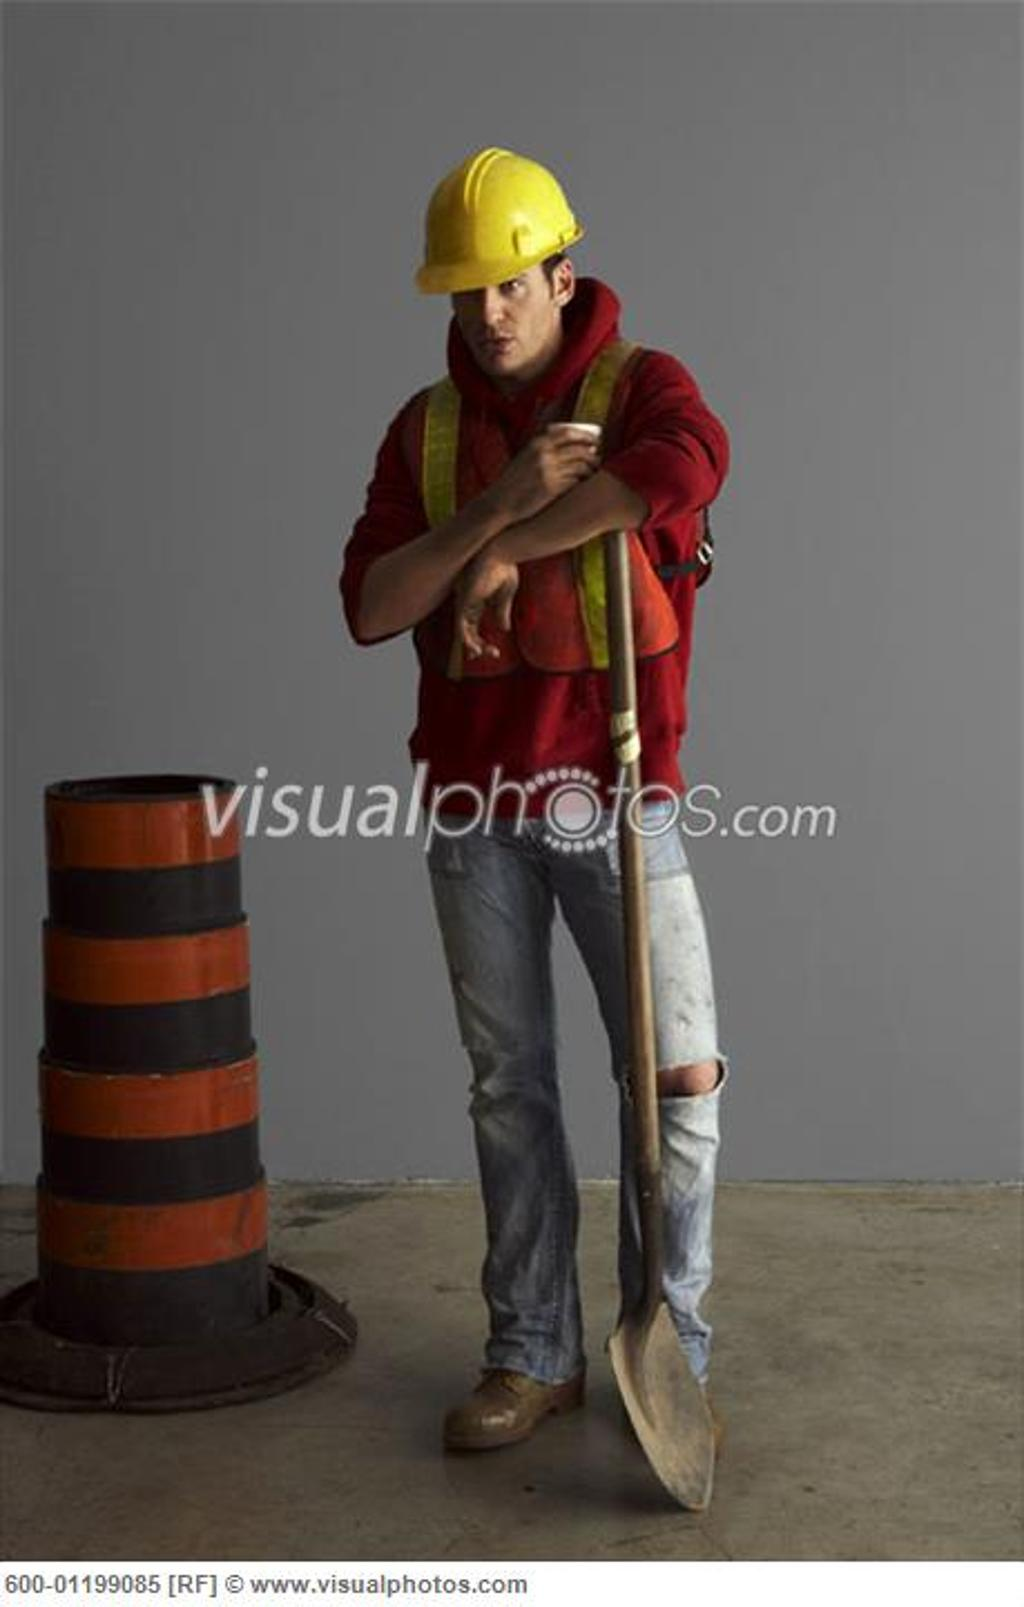face: (455, 220, 540, 368)
